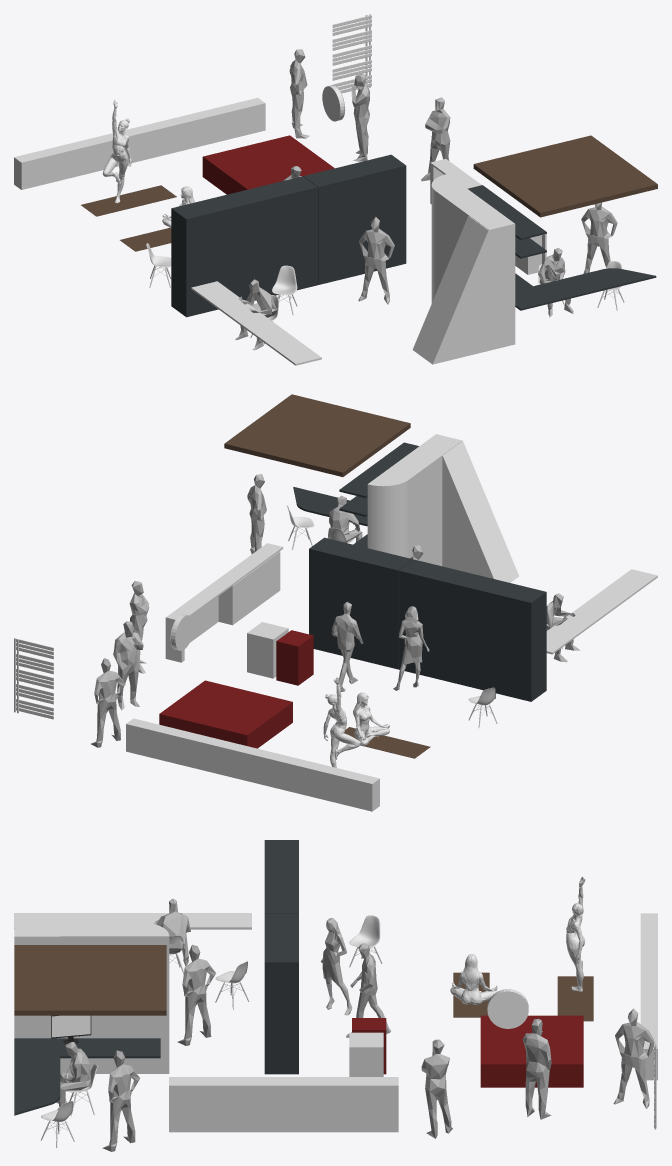
The model's file is OG_People&Möbel.glb.
3 views of the same model, one above another, from view 1: azimuth 30°, elevation 25°; view 2: azimuth 150°, elevation 25°; view 3: azimuth 270°, elevation 25° (orthographic). The views are drawn at different scales.
Visible parts, largest first — view 1: Curve.035, Kleiderschrank_202.004, Curve.042, Curve.040, Curve.041, _Curve.002, Curve.036, Curve.027, Heizkörper.001, Curve.031, SM_People_Lowpoly_06.014, SM_People_Lowpoly_06.013 (+13 smaller); view 2: Curve.035, Kleiderschrank_202.004, Curve.040, Curve.042, _Curve.002, Curve.041, Curve.036, Curve.032, Curve.027, Heizkörper.001, Kleiderschrank_202.005, Kleiderschrank_202.003 (+16 smaller); view 3: Curve.032, Curve.042, _Curve.002, Curve.036, Kleiderschrank_202.004, _Curve.003, Curve.035, Curve.040, Curve.031, Curve.027, SM_People_Lowpoly_06.015, SM_People_Lowpoly_05.003 (+19 smaller).
Part boxes in pixels (left/top/right/bottom): Curve.035: left=171, top=176, right=317, bottom=317; Kleiderschrank_202.004: left=303, top=154, right=406, bottom=284; Curve.042: left=473, top=135, right=657, bottom=217; Curve.040: left=14, top=97, right=265, bottom=189; Curve.041: left=412, top=216, right=515, bottom=364; _Curve.002: left=431, top=174, right=514, bottom=350; Curve.036: left=202, top=135, right=334, bottom=194; Curve.027: left=191, top=281, right=321, bottom=365; Heizkörper.001: left=332, top=14, right=371, bottom=93; Curve.031: left=533, top=268, right=656, bottom=302; SM_People_Lowpoly_06.014: left=358, top=217, right=394, bottom=304; SM_People_Lowpoly_06.013: left=581, top=202, right=617, bottom=273; Curve.035: left=398, top=559, right=546, bottom=701; Kleiderschrank_202.004: left=309, top=537, right=412, bottom=669; Curve.040: left=126, top=718, right=379, bottom=811; Curve.042: left=224, top=394, right=410, bottom=476; _Curve.002: left=367, top=434, right=462, bottom=566; Curve.041: left=442, top=441, right=519, bottom=582; Curve.036: left=159, top=680, right=292, bottom=748; Curve.032: left=165, top=543, right=283, bottom=662; Curve.027: left=546, top=569, right=657, bottom=654; Heizkörper.001: left=14, top=638, right=53, bottom=719; Kleiderschrank_202.005: left=276, top=630, right=313, bottom=685; Kleiderschrank_202.003: left=247, top=622, right=288, bottom=678; Curve.032: left=169, top=1077, right=398, bottom=1132; Curve.042: left=14, top=945, right=166, bottom=1015; _Curve.002: left=14, top=921, right=169, bottom=1073; Curve.036: left=480, top=1015, right=583, bottom=1087; Kleiderschrank_202.004: left=264, top=913, right=298, bottom=1074; _Curve.003: left=14, top=1038, right=160, bottom=1058; Curve.035: left=264, top=840, right=298, bottom=913; Curve.040: left=640, top=913, right=657, bottom=1080; Curve.031: left=14, top=1056, right=60, bottom=1115; Curve.027: left=14, top=913, right=251, bottom=929; SM_People_Lowpoly_06.015: left=613, top=1008, right=655, bottom=1108; SM_People_Lowpoly_05.003: left=522, top=1019, right=551, bottom=1119.
Bounding box in the file's own units: 8.36 × 2.81 × 11.22.
Materials: 13 (1 with a texture image).
